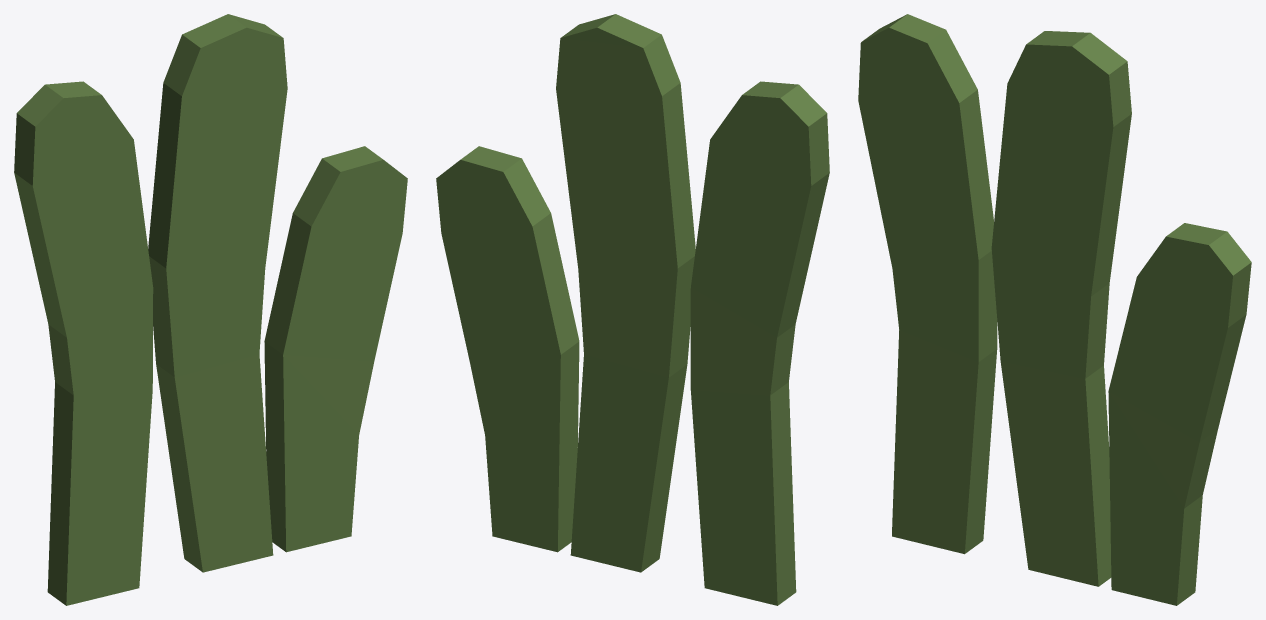
The model's file is Algae1_tex.fbx.
The picture shows the model from 3 angles, left to right: view 1: azimuth 30°, elevation 25°; view 2: azimuth 150°, elevation 25°; view 3: azimuth 330°, elevation 25°; orthographic projection.
Parts seen in each view (by area): view 1: Algae1_tex; view 2: Algae1_tex; view 3: Algae1_tex.
Part boxes in pixels (left/top/right/bottom): Algae1_tex: left=14, top=14, right=407, bottom=605; Algae1_tex: left=436, top=14, right=829, bottom=605; Algae1_tex: left=858, top=14, right=1251, bottom=605.
Bounding box in the file's own units: 0.4524 × 0.6157 × 0.0397.
